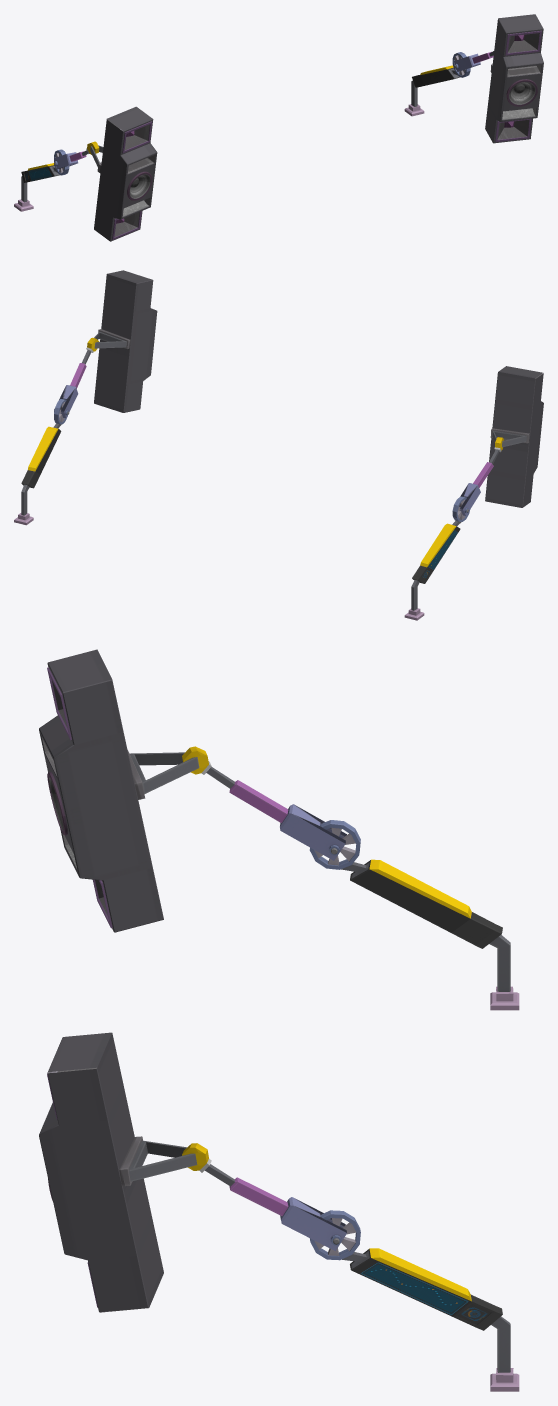
Rendered from StageSpeakers.glb.
3 views of the same model, one above another, from view 1: azimuth 30°, elevation 25°; view 2: azimuth 150°, elevation 25°; view 3: azimuth 270°, elevation 25° (orthographic). The views are drawn at different scales.
Visible parts, largest first — view 1: Speaker01; view 2: Speaker01; view 3: Speaker01.
Part boxes in pixels (x1,y1,x2,y2): Speaker01: (14,14,543,241); Speaker01: (14,270,543,620); Speaker01: (39,649,519,1391).
Size of the model in its own units: 58.56 by 22.02 by 28.3.
2 materials, 1 textured.
